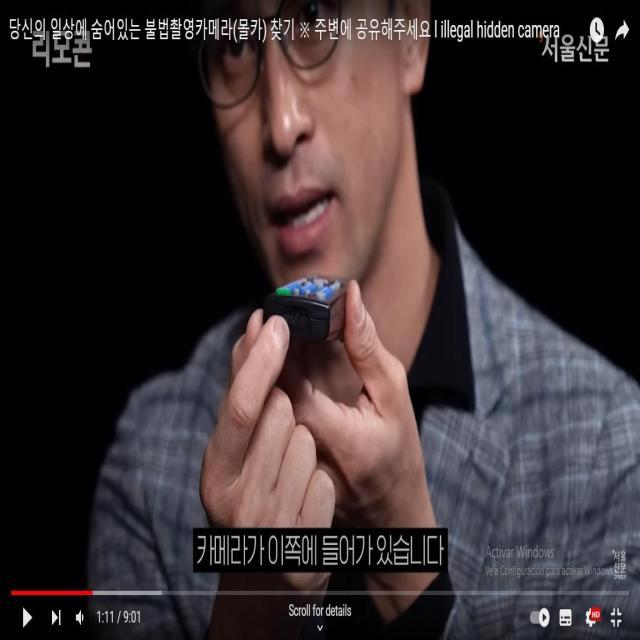hidden camera: (290, 306, 302, 328)
